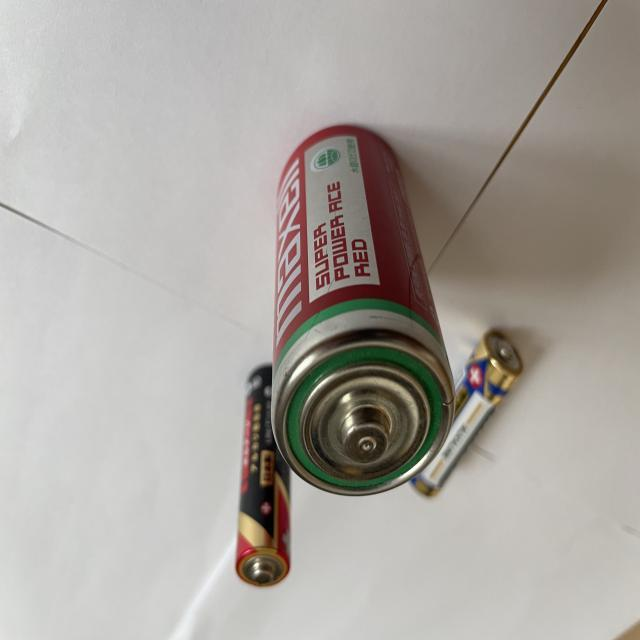hazardous waste: (270, 126, 456, 496), (410, 328, 523, 500), (235, 364, 290, 588)
